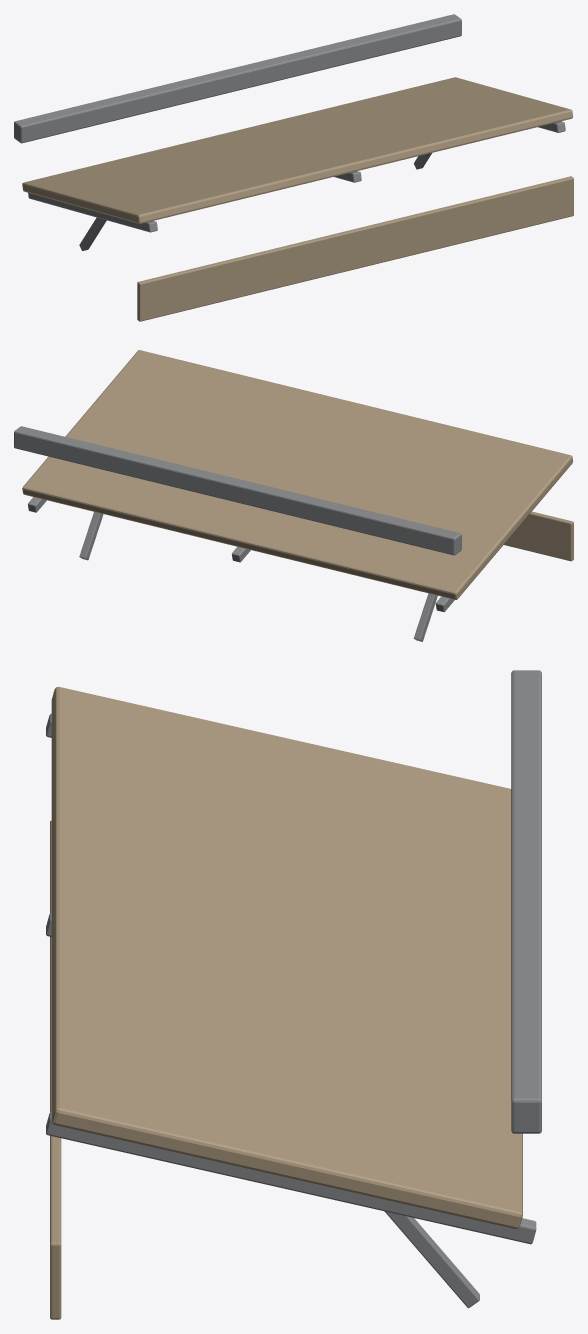
Rendered from prop_awning.glb.
3 renders of one model, top to bottom at view 1: azimuth 30°, elevation 25°; view 2: azimuth 150°, elevation 25°; view 3: azimuth 270°, elevation 25°, orthographic. The views are drawn at different scales.
Visible parts, largest first — view 1: Cube, Cube.005, Cube.004, Cube.001; view 2: Cube, Cube.004, Cube.005, Cube.006, Cube.007; view 3: Cube, Cube.004, Cube.003, Cube.005, Cube.007.
Part boxes in pixels (x1,y1,x2,y2): Cube: (22, 77, 573, 223); Cube.005: (137, 176, 573, 321); Cube.004: (14, 14, 461, 143); Cube.001: (28, 193, 157, 232); Cube: (22, 350, 573, 599); Cube.004: (14, 426, 461, 555); Cube.005: (504, 511, 573, 561); Cube.006: (413, 593, 437, 641); Cube.007: (79, 512, 103, 560); Cube: (51, 686, 522, 1228); Cube.004: (511, 670, 541, 1133); Cube.003: (46, 1112, 536, 1244); Cube.005: (50, 820, 61, 1319); Cube.007: (384, 1211, 479, 1308).
Size of the model in its own units: 2.64 by 0.7371 by 1.29.
